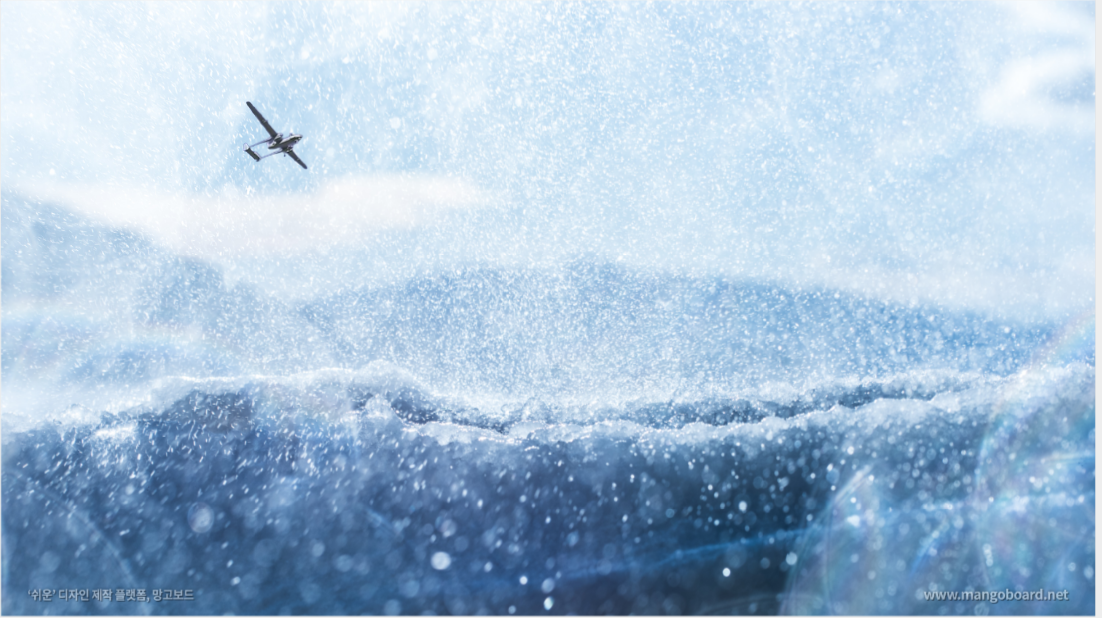military drone: (242, 101, 307, 169)
